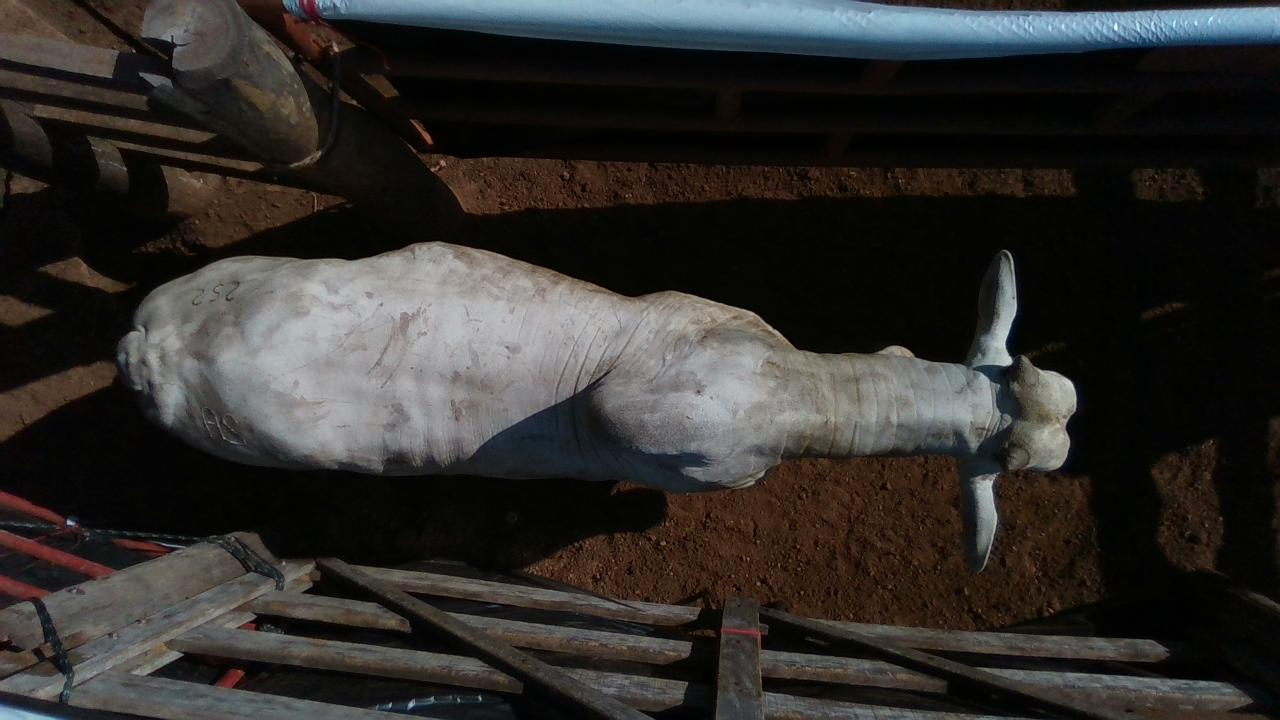cattle: (113, 237, 1079, 573)
